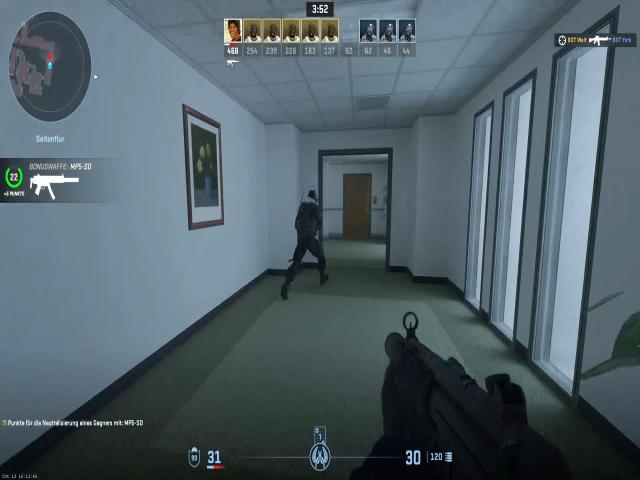CT: (290, 178, 334, 246)
CT-Head: (302, 186, 321, 209)
